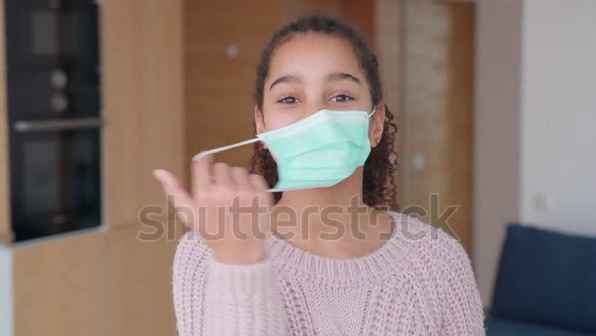Mask: (253, 113, 387, 195)
